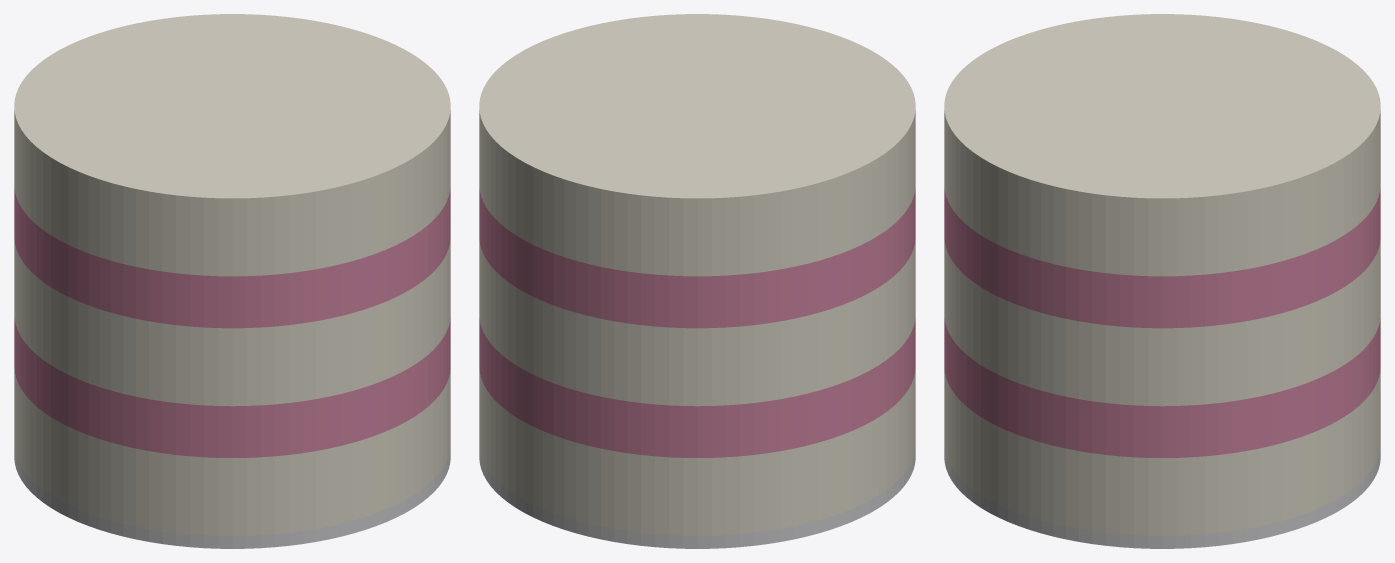
File: cake_6in_layers3.glb
The picture shows the model from 3 angles, left to right: view 1: azimuth 30°, elevation 25°; view 2: azimuth 150°, elevation 25°; view 3: azimuth 270°, elevation 25°; orthographic projection.
Visible parts, largest first — view 1: geometry_4, geometry_0, geometry_2, geometry_3, geometry_1, geometry_5; view 2: geometry_4, geometry_0, geometry_2, geometry_3, geometry_1, geometry_5; view 3: geometry_4, geometry_0, geometry_2, geometry_3, geometry_1, geometry_5.
Part boxes in pixels (x1=…): geometry_4: x1=14, y1=14, x2=450, y2=276; geometry_0: x1=14, y1=370, x2=450, y2=535; geometry_2: x1=14, y1=240, x2=450, y2=406; geometry_3: x1=14, y1=188, x2=450, y2=328; geometry_1: x1=14, y1=318, x2=450, y2=457; geometry_5: x1=14, y1=447, x2=450, y2=548; geometry_4: x1=479, y1=14, x2=915, y2=276; geometry_0: x1=479, y1=370, x2=915, y2=535; geometry_2: x1=479, y1=240, x2=915, y2=406; geometry_3: x1=479, y1=188, x2=915, y2=328; geometry_1: x1=479, y1=318, x2=915, y2=457; geometry_5: x1=479, y1=447, x2=915, y2=548; geometry_4: x1=944, y1=14, x2=1380, y2=276; geometry_0: x1=944, y1=370, x2=1380, y2=535; geometry_2: x1=944, y1=240, x2=1380, y2=406; geometry_3: x1=944, y1=188, x2=1380, y2=328; geometry_1: x1=944, y1=318, x2=1380, y2=457; geometry_5: x1=944, y1=447, x2=1380, y2=548.
Size of the model in its own units: 0.1524 by 0.135 by 0.1524.
